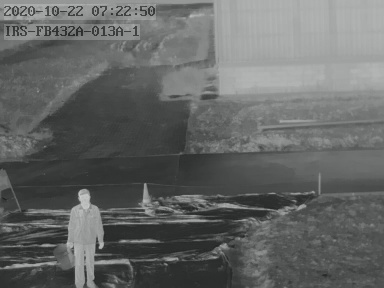person: (67, 188, 103, 288)
